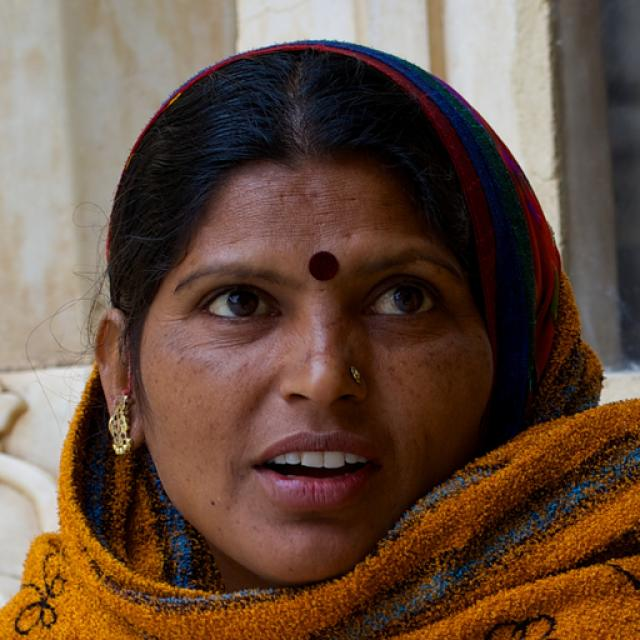Pigmentation: (388, 337, 484, 405), (302, 316, 361, 367)
